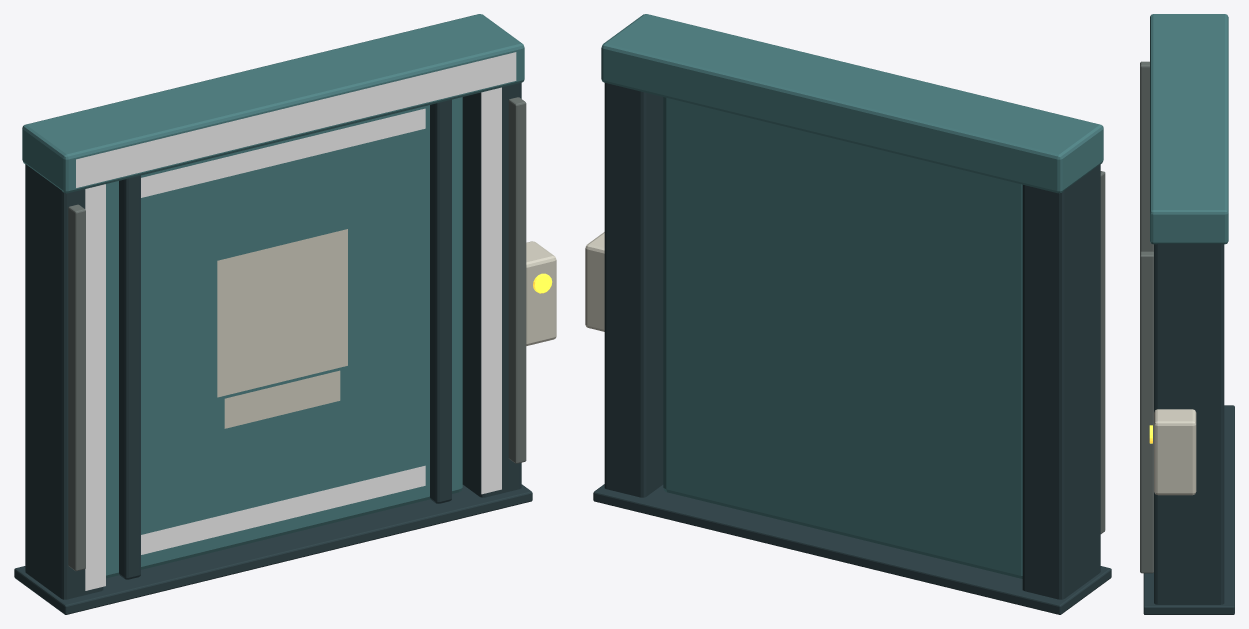
File: sliding-bulkhead.glb
3 views of the same model, side by side, from view 1: azimuth 30°, elevation 25°; view 2: azimuth 150°, elevation 25°; view 3: azimuth 270°, elevation 25° (orthographic). The views are drawn at different scales.
Parts seen in each view (by area): view 1: sliding-bulkhead__bulkhead-leaf__petrol, sliding-bulkhead__sliding-bulkhead__steel, sliding-bulkhead__sliding-bulkhead__decal-hazard, sliding-bulkhead__sliding-bulkhead__petrol, sliding-bulkhead__bulkhead-leaf__decal-ivory, sliding-bulkhead__bulkhead-leaf__steel, sliding-bulkhead__sliding-bulkhead__hardware, sliding-bulkhead__bulkhead-leaf__decal-hazard, sliding-bulkhead__sliding-bulkhead__ivory; view 2: sliding-bulkhead__bulkhead-leaf__petrol, sliding-bulkhead__sliding-bulkhead__steel, sliding-bulkhead__sliding-bulkhead__petrol, sliding-bulkhead__sliding-bulkhead__hardware, sliding-bulkhead__sliding-bulkhead__ivory; view 3: sliding-bulkhead__sliding-bulkhead__steel, sliding-bulkhead__sliding-bulkhead__petrol, sliding-bulkhead__sliding-bulkhead__hardware, sliding-bulkhead__sliding-bulkhead__ivory.
Boxes of the visible parts, left/top/right/bottom form: sliding-bulkhead__bulkhead-leaf__petrol: left=106, top=97, right=462, bottom=578; sliding-bulkhead__sliding-bulkhead__steel: left=14, top=82, right=532, bottom=614; sliding-bulkhead__sliding-bulkhead__decal-hazard: left=76, top=52, right=516, bottom=590; sliding-bulkhead__sliding-bulkhead__petrol: left=22, top=14, right=524, bottom=193; sliding-bulkhead__bulkhead-leaf__decal-ivory: left=217, top=229, right=347, bottom=428; sliding-bulkhead__bulkhead-leaf__steel: left=119, top=99, right=451, bottom=579; sliding-bulkhead__sliding-bulkhead__hardware: left=68, top=97, right=526, bottom=571; sliding-bulkhead__bulkhead-leaf__decal-hazard: left=141, top=108, right=425, bottom=554; sliding-bulkhead__sliding-bulkhead__ivory: left=526, top=241, right=556, bottom=345; sliding-bulkhead__bulkhead-leaf__petrol: left=663, top=97, right=1022, bottom=578; sliding-bulkhead__sliding-bulkhead__steel: left=593, top=83, right=1111, bottom=614; sliding-bulkhead__sliding-bulkhead__petrol: left=601, top=14, right=1103, bottom=193; sliding-bulkhead__sliding-bulkhead__hardware: left=1100, top=171, right=1105, bottom=533; sliding-bulkhead__sliding-bulkhead__ivory: left=585, top=232, right=604, bottom=331; sliding-bulkhead__sliding-bulkhead__steel: left=1143, top=243, right=1234, bottom=614; sliding-bulkhead__sliding-bulkhead__petrol: left=1150, top=14, right=1228, bottom=244; sliding-bulkhead__sliding-bulkhead__hardware: left=1140, top=61, right=1153, bottom=573; sliding-bulkhead__sliding-bulkhead__ivory: left=1154, top=409, right=1196, bottom=495.
Bounding box in the file's own units: 3.62 × 3.16 × 0.675.
